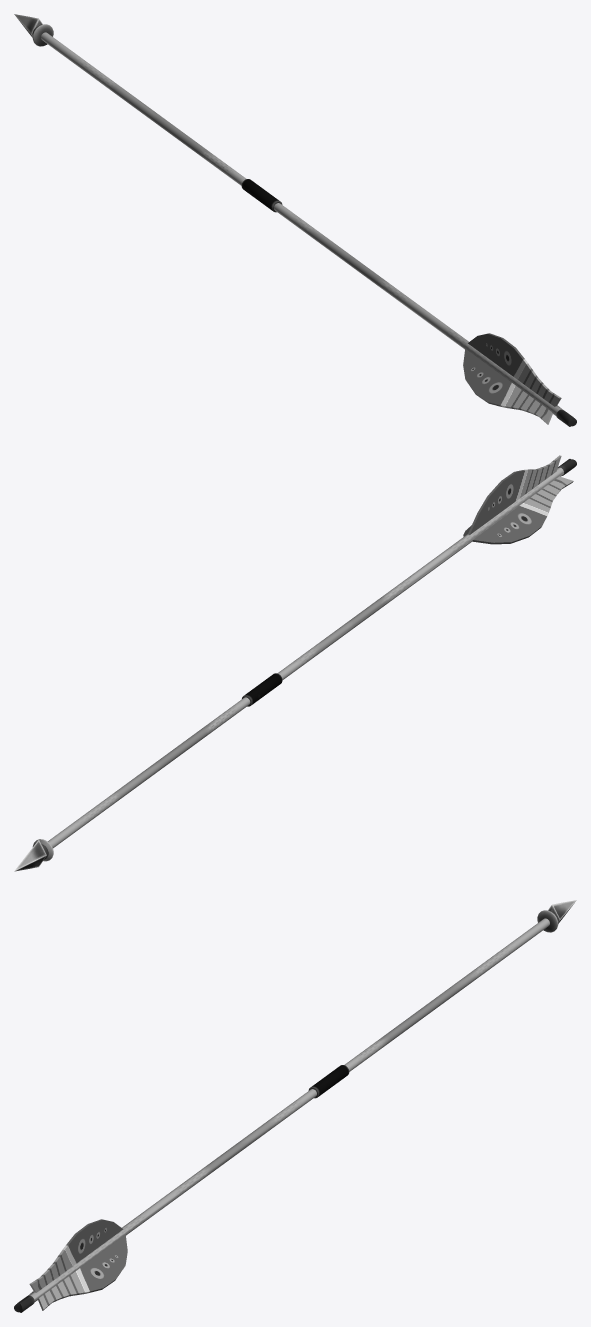
Rendered from warrior.glb.
3 views of the same model, one above another, from view 1: azimuth 30°, elevation 25°; view 2: azimuth 150°, elevation 25°; view 3: azimuth 330°, elevation 25° (orthographic).
Visible parts, largest first — view 1: arrow; view 2: arrow; view 3: arrow.
Part boxes in pixels (left/top/right/bottom): arrow: left=14, top=14, right=576, bottom=426; arrow: left=14, top=455, right=576, bottom=871; arrow: left=14, top=900, right=576, bottom=1312.
Size of the model in its own units: 0.0642 by 0.0557 by 1.13.
Materials: 1 (1 with a texture image).
